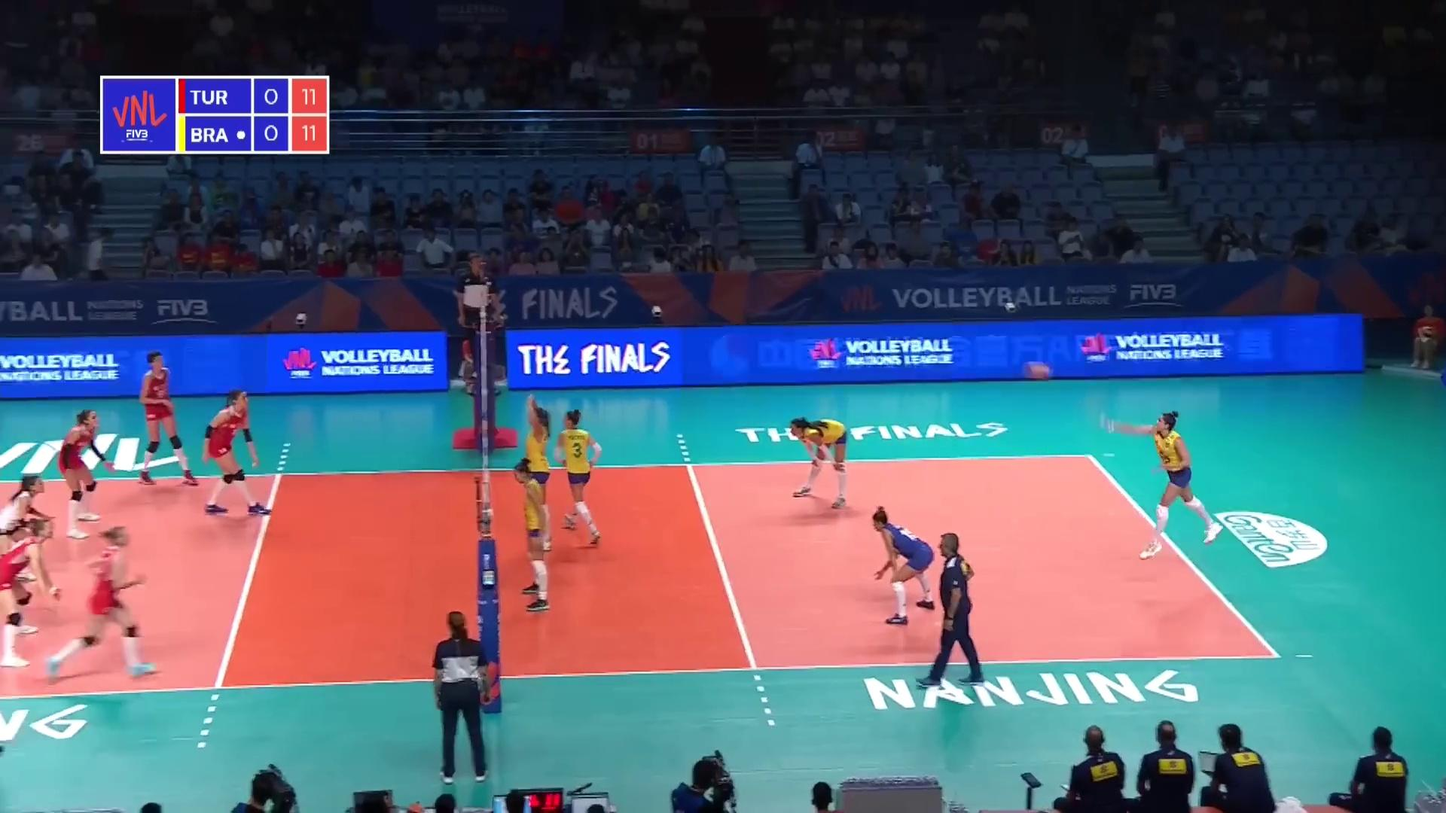player: (47, 530, 158, 683), (1108, 412, 1214, 556), (0, 432, 68, 598), (47, 409, 115, 539), (543, 410, 606, 549), (203, 392, 271, 516), (127, 351, 188, 488), (863, 511, 936, 625), (0, 516, 55, 667), (503, 461, 552, 616), (782, 416, 853, 508), (521, 400, 561, 558)
refree: (431, 611, 500, 783), (456, 252, 509, 399)
